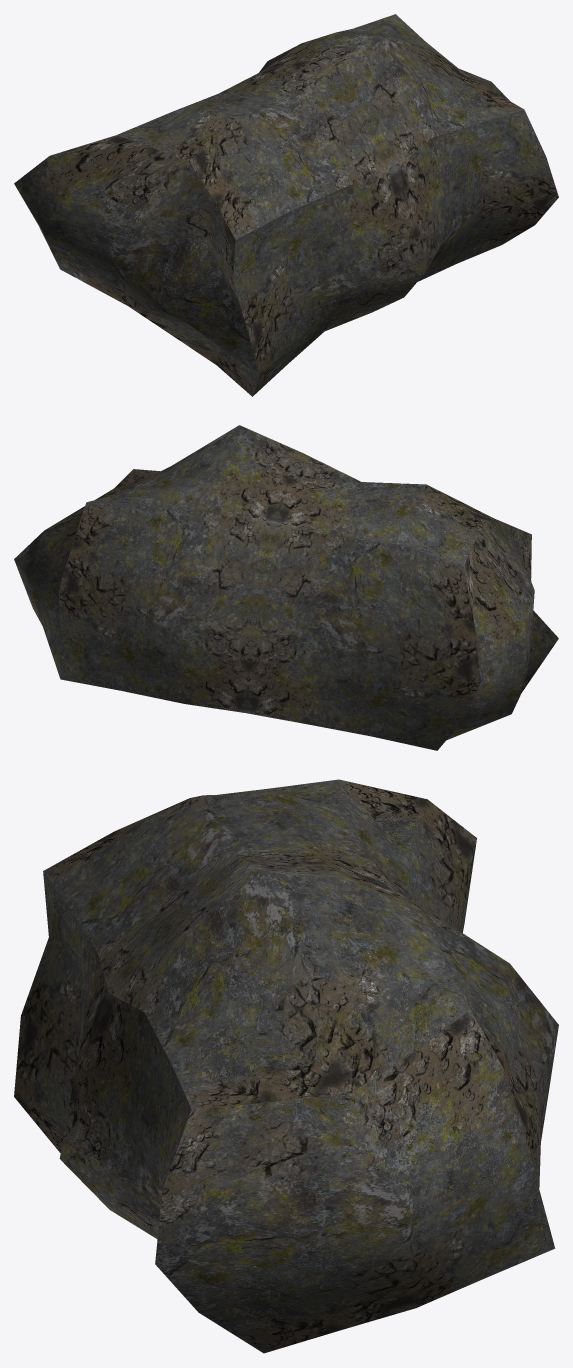
Rendered from Rock07.fbx.
The picture shows the model from 3 angles, top to bottom: view 1: azimuth 30°, elevation 25°; view 2: azimuth 150°, elevation 25°; view 3: azimuth 270°, elevation 25°; orthographic projection. The views are drawn at different scales.
Visible parts, largest first — view 1: Rock07; view 2: Rock07; view 3: Rock07.
Boxes of the visible parts, bbox=[...] form: Rock07: bbox=[14, 14, 558, 396]; Rock07: bbox=[14, 425, 558, 750]; Rock07: bbox=[14, 779, 558, 1353].
Bounding box in the file's own units: 10.82 × 5.86 × 6.68.
